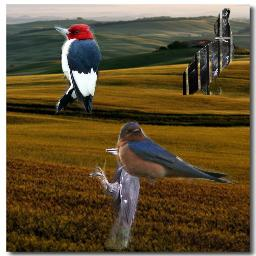Crow: (183, 8, 234, 95)
Swallow: (115, 122, 241, 187)
Woodpecker: (88, 141, 143, 249), (54, 21, 103, 116)
